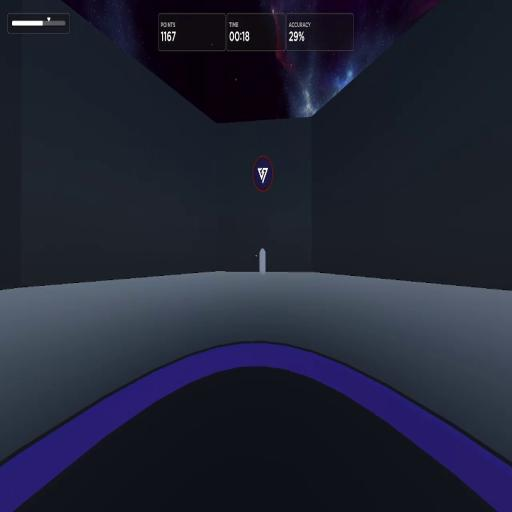Crosshair: (255, 254, 257, 257)
Target: (259, 248, 266, 275)
